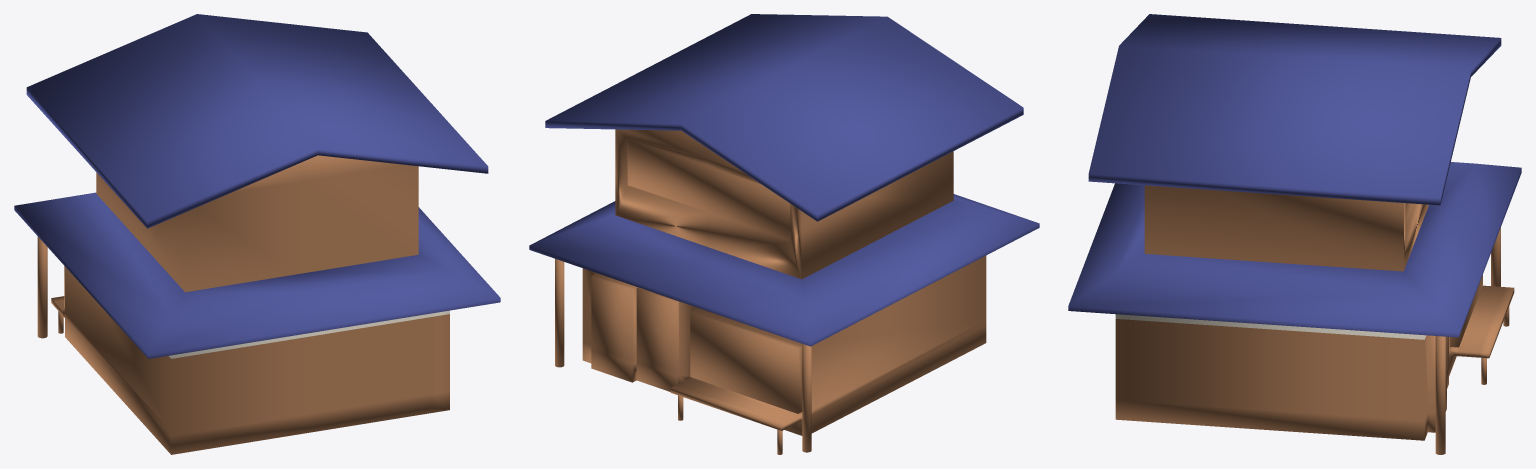
File: 044_古民家010.glb
3 views of the same model, side by side, from view 1: azimuth 30°, elevation 25°; view 2: azimuth 150°, elevation 25°; view 3: azimuth 270°, elevation 25° (orthographic). The views are drawn at different scales.
Parts seen in each view (by area): view 1: 立方体053_1, 立方体053_3, 立方体053, 立方体053_2; view 2: 立方体053_1, 立方体053_3, 立方体053_4, 立方体053; view 3: 立方体053_1, 立方体053_3, 立方体053, 立方体053_2, 立方体053_4.
Boxes of the visible parts, left/top/right/bottom form: 立方体053_1: left=14, top=14, right=500, bottom=358; 立方体053_3: left=51, top=155, right=449, bottom=454; 立方体053: left=37, top=236, right=64, bottom=338; 立方体053_2: left=169, top=310, right=449, bottom=358; 立方体053_1: left=529, top=14, right=1039, bottom=346; 立方体053_3: left=582, top=129, right=986, bottom=435; 立方体053_4: left=591, top=139, right=802, bottom=413; 立方体053: left=555, top=259, right=811, bottom=454; 立方体053_1: left=1068, top=14, right=1521, bottom=337; 立方体053_3: left=1115, top=185, right=1514, bottom=440; 立方体053: left=1435, top=227, right=1509, bottom=454; 立方体053_2: left=1115, top=314, right=1426, bottom=339; 立方体053_4: left=1406, top=203, right=1482, bottom=432.
Size of the model in its own units: 3.28 by 2.53 by 3.28.
